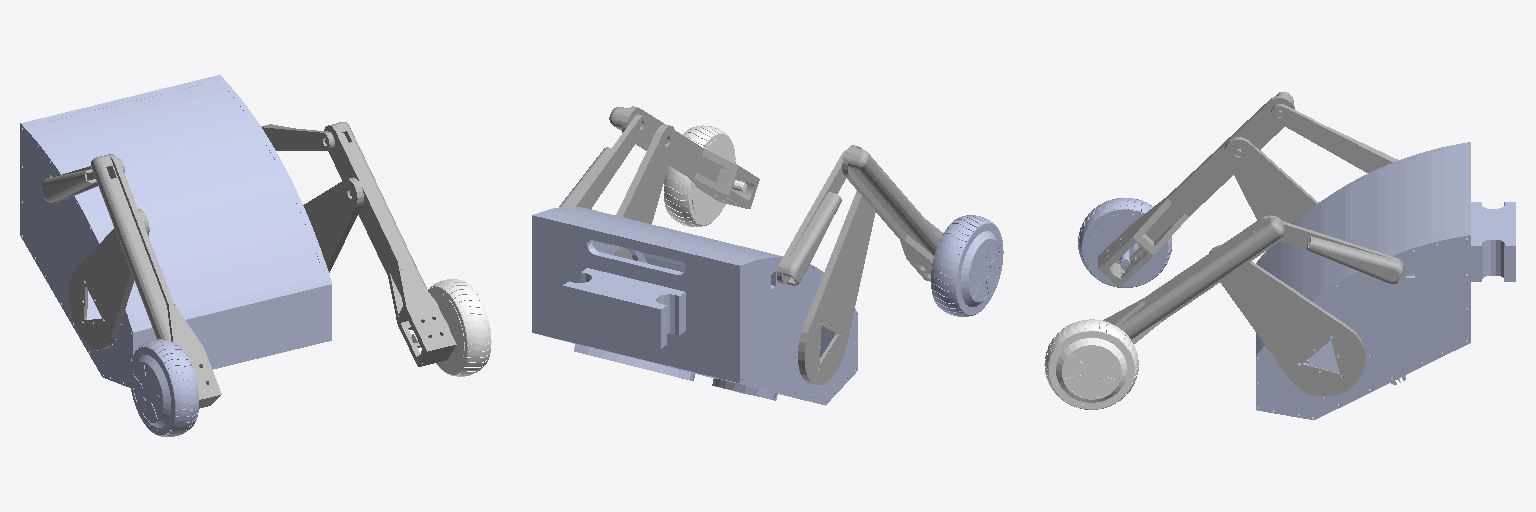
robot.urdf — sbr:
<?xml version="1.0" encoding="utf-8"?>
<!-- This URDF was automatically created by SolidWorks to URDF Exporter! Originally created by [author] ([email redacted]) 
     Commit Version: 1.6.0-4-g7f85cfe  Build Version: 1.6.7995.38578
     For more information, please see http://wiki.ros.org/sw_urdf_exporter -->
<robot
  name="sbr">
  <link
    name="base_link">
    <inertial>
      <origin
        xyz="-2.76555700180758E-05 0.227704467918155 0.0583610098036684"
        rpy="0 0 0" />
      <mass
        value="6.01926486550684" />
      <inertia
        ixx="0.056170551553721"
        ixy="6.07079296742871E-07"
        ixz="-1.55346959887611E-06"
        iyy="0.0639535245178406"
        iyz="-0.0195604065491136"
        izz="0.0795529085731348" />
    </inertial>
    <visual>
      <origin
        xyz="0 0 0"
        rpy="0 0 0" />
      <geometry>
        <mesh
          filename="package://sbr/meshes/base_link.STL" />
      </geometry>
      <material
        name="">
        <color
          rgba="0.792156862745098 0.819607843137255 0.933333333333333 1" />
      </material>
    </visual>
    <collision>
      <origin
        xyz="0 0 0"
        rpy="0 0 0" />
      <geometry>
        <mesh
          filename="package://sbr/meshes/base_link.STL" />
      </geometry>
    </collision>
  </link>
  <link
    name="cont_1">
    <inertial>
      <origin
        xyz="-0.0059438 -0.050574 -0.071771"
        rpy="0 0 0" />
      <mass
        value="0.33847" />
      <inertia
        ixx="0.0029734"
        ixy="-1.3483E-06"
        ixz="-1.9134E-06"
        iyy="0.0018709"
        iyz="-0.001064"
        izz="0.0011107" />
    </inertial>
    <visual>
      <origin
        xyz="0 0 0"
        rpy="0 0 0" />
      <geometry>
        <mesh
          filename="package://sbr/meshes/cont_1.STL" />
      </geometry>
      <material
        name="">
        <color
          rgba="0.74902 0.74902 0.74902 1" />
      </material>
    </visual>
    <collision>
      <origin
        xyz="0 0 0"
        rpy="0 0 0" />
      <geometry>
        <mesh
          filename="package://sbr/meshes/cont_1.STL" />
      </geometry>
    </collision>
  </link>
  <joint
    name="cont_1j"
    type="revolute">
    <origin
      xyz="-0.197 0.11544 0"
      rpy="3.1416 0 3.1416" />
    <parent
      link="base_link" />
    <child
      link="cont_1" />
    <axis
      xyz="1 0 0" />
    <limit
      lower="0"
      upper="0"
      effort="0"
      velocity="0" />
  </joint>
  <link
    name="Rleg_4">
    <inertial>
      <origin
        xyz="0.0195946903053816 -0.0850698143687041 0.0872274208634162"
        rpy="0 0 0" />
      <mass
        value="0.415086272244255" />
      <inertia
        ixx="0.00739303973811856"
        ixy="-0.000120155142096434"
        ixz="0.000126214228537311"
        iyy="0.00388856471860554"
        iyz="0.00359526421237412"
        izz="0.00366248839387767" />
    </inertial>
    <visual>
      <origin
        xyz="0 0 0"
        rpy="0 0 0" />
      <geometry>
        <mesh
          filename="package://sbr/meshes/Rleg_4.STL" />
      </geometry>
      <material
        name="">
        <color
          rgba="0.749019607843137 0.749019607843137 0.749019607843137 1" />
      </material>
    </visual>
    <collision>
      <origin
        xyz="0 0 0"
        rpy="0 0 0" />
      <geometry>
        <mesh
          filename="package://sbr/meshes/Rleg_4.STL" />
      </geometry>
    </collision>
  </link>
  <joint
    name="Rleg_4j"
    type="revolute">
    <origin
      xyz="-0.0119999999999999 -0.144003509130375 -0.204359950475016"
      rpy="0 0 0" />
    <parent
      link="cont_1" />
    <child
      link="Rleg_4" />
    <axis
      xyz="1 0 0" />
    <limit
      lower="0"
      upper="0"
      effort="0"
      velocity="0" />
  </joint>
  <link
    name="cran_2">
    <inertial>
      <origin
        xyz="-0.000682764334533015 -0.0734645807338099 -0.043738889902025"
        rpy="0 0 0" />
      <mass
        value="0.12243957571292" />
      <inertia
        ixx="0.000530172498653941"
        ixy="-7.34139310083131E-06"
        ixz="-4.2720303242008E-06"
        iyy="0.000155833844911724"
        iyz="-0.000220671382760022"
        izz="0.000395660393177888" />
    </inertial>
    <visual>
      <origin
        xyz="0 0 0"
        rpy="0 0 0" />
      <geometry>
        <mesh
          filename="package://sbr/meshes/cran_2.STL" />
      </geometry>
      <material
        name="">
        <color
          rgba="0.749019607843137 0.749019607843137 0.749019607843137 1" />
      </material>
    </visual>
    <collision>
      <origin
        xyz="0 0 0"
        rpy="0 0 0" />
      <geometry>
        <mesh
          filename="package://sbr/meshes/cran_2.STL" />
      </geometry>
    </collision>
  </link>
  <joint
    name="cran_2j"
    type="revolute">
    <origin
      xyz="-0.195 0.229790683682288 0.164085587903017"
      rpy="3.14159265358979 0 3.14159265358979" />
    <parent
      link="base_link" />
    <child
      link="cran_2" />
    <axis
      xyz="1 0 0" />
    <limit
      lower="0"
      upper="0"
      effort="0"
      velocity="0" />
  </joint>
  <link
    name="Rleg_3">
    <inertial>
      <origin
        xyz="0.0195946903053818 -0.154319093338658 0.159369900509516"
        rpy="0 0 0" />
      <mass
        value="0.415086272244255" />
      <inertia
        ixx="0.00739303973811856"
        ixy="-0.000120155142096434"
        ixz="0.000126214228537311"
        iyy="0.00388856471860554"
        iyz="0.00359526421237412"
        izz="0.00366248839387767" />
    </inertial>
    <visual>
      <origin
        xyz="0 0 0"
        rpy="0 0 0" />
      <geometry>
        <mesh
          filename="package://sbr/meshes/Rleg_3.STL" />
      </geometry>
      <material
        name="">
        <color
          rgba="0.749019607843137 0.749019607843137 0.749019607843137 1" />
      </material>
    </visual>
    <collision>
      <origin
        xyz="0 0 0"
        rpy="0 0 0" />
      <geometry>
        <mesh
          filename="package://sbr/meshes/Rleg_3.STL" />
      </geometry>
    </collision>
  </link>
  <joint
    name="Rleg_3j"
    type="revolute">
    <origin
      xyz="-0.01 -0.189108047489418 -0.112419510649797"
      rpy="0 0 0" />
    <parent
      link="cran_2" />
    <child
      link="Rleg_3" />
    <axis
      xyz="1 0 0" />
    <limit
      lower="0"
      upper="0"
      effort="0"
      velocity="0" />
  </joint>
  <link
    name="cont_6">
    <inertial>
      <origin
        xyz="-0.00594378099244974 -0.0601675364389161 0.0638280358809282"
        rpy="0 0 0" />
      <mass
        value="0.3384745517817" />
      <inertia
        ixx="0.00297344569042236"
        ixy="-1.60342960470081E-06"
        ixz="1.70534778750191E-06"
        iyy="0.00156038050771122"
        iyz="0.00112769547111833"
        izz="0.00142130578663051" />
    </inertial>
    <visual>
      <origin
        xyz="0 0 0"
        rpy="0 0 0" />
      <geometry>
        <mesh
          filename="package://sbr/meshes/cont_6.STL" />
      </geometry>
      <material
        name="">
        <color
          rgba="0.749019607843137 0.749019607843137 0.749019607843137 1" />
      </material>
    </visual>
    <collision>
      <origin
        xyz="0 0 0"
        rpy="0 0 0" />
      <geometry>
        <mesh
          filename="package://sbr/meshes/cont_6.STL" />
      </geometry>
    </collision>
  </link>
  <joint
    name="cont_6j"
    type="revolute">
    <origin
      xyz="0.197 0.115436866353291 0"
      rpy="0 0 0" />
    <parent
      link="base_link" />
    <child
      link="cont_6" />
    <axis
      xyz="1 0 0" />
    <limit
      lower="0"
      upper="0"
      effort="0"
      velocity="0" />
  </joint>
  <link
    name="Lleg_9">
    <inertial>
      <origin
        xyz="0.0195947514615937 -0.097983638734368 -0.0724203250605406"
        rpy="0 0 0" />
      <mass
        value="0.415086883864536" />
      <inertia
        ixx="0.0073930389839479"
        ixy="-0.000138876107863853"
        ixz="-0.000105268818343775"
        iyy="0.0027420874104242"
        iyz="-0.00344538866570124"
        izz="0.00480896649112852" />
    </inertial>
    <visual>
      <origin
        xyz="0 0 0"
        rpy="0 0 0" />
      <geometry>
        <mesh
          filename="package://sbr/meshes/Lleg_9.STL" />
      </geometry>
      <material
        name="">
        <color
          rgba="0.749019607843137 0.749019607843137 0.749019607843137 1" />
      </material>
    </visual>
    <collision>
      <origin
        xyz="0 0 0"
        rpy="0 0 0" />
      <geometry>
        <mesh
          filename="package://sbr/meshes/Lleg_9.STL" />
      </geometry>
    </collision>
  </link>
  <joint
    name="Lleg_9j"
    type="revolute">
    <origin
      xyz="-0.01 -0.171274550513312 0.18199730260285"
      rpy="0 0 0" />
    <parent
      link="cont_6" />
    <child
      link="Lleg_9" />
    <axis
      xyz="-1 0 0" />
    <limit
      lower="0"
      upper="0"
      effort="0"
      velocity="0" />
  </joint>
  <link
    name="cran_7">
    <inertial>
      <origin
        xyz="0.0493172483668554 -0.0799465841130305 0.0303096858562807"
        rpy="0 0 0" />
      <mass
        value="0.122439645946318" />
      <inertia
        ixx="0.000530172609465354"
        ixy="-7.91179021459104E-06"
        ixz="3.0903454756215E-06"
        iyy="8.78881626797365E-05"
        iyz="0.000166685556193853"
        izz="0.000463606241471678" />
    </inertial>
    <visual>
      <origin
        xyz="0 0 0"
        rpy="0 0 0" />
      <geometry>
        <mesh
          filename="package://sbr/meshes/cran_7.STL" />
      </geometry>
      <material
        name="">
        <color
          rgba="0.749019607843137 0.749019607843137 0.749019607843137 1" />
      </material>
    </visual>
    <collision>
      <origin
        xyz="0 0 0"
        rpy="0 0 0" />
      <geometry>
        <mesh
          filename="package://sbr/meshes/cran_7.STL" />
      </geometry>
    </collision>
  </link>
  <joint
    name="cran_7j"
    type="revolute">
    <origin
      xyz="0.145 0.229766466738778 0.163947437470892"
      rpy="0 0 0" />
    <parent
      link="base_link" />
    <child
      link="cran_7" />
    <axis
      xyz="1 0 0" />
    <limit
      lower="0"
      upper="0"
      effort="0"
      velocity="0" />
  </joint>
  <link
    name="Lleg_8">
    <inertial>
      <origin
        xyz="0.0195947514615937 -0.177927551136723 -0.132495035794797"
        rpy="0 0 0" />
      <mass
        value="0.415086883864536" />
      <inertia
        ixx="0.0073930389839479"
        ixy="-0.000138876107863853"
        ixz="-0.000105268818343775"
        iyy="0.0027420874104242"
        iyz="-0.00344538866570124"
        izz="0.00480896649112852" />
    </inertial>
    <visual>
      <origin
        xyz="0 0 0"
        rpy="0 0 0" />
      <geometry>
        <mesh
          filename="package://sbr/meshes/Lleg_8.STL" />
      </geometry>
      <material
        name="">
        <color
          rgba="0.749019607843137 0.749019607843137 0.749019607843137 1" />
      </material>
    </visual>
    <collision>
      <origin
        xyz="0 0 0"
        rpy="0 0 0" />
      <geometry>
        <mesh
          filename="package://sbr/meshes/Lleg_8.STL" />
      </geometry>
    </collision>
  </link>
  <joint
    name="Lleg_8j"
    type="revolute">
    <origin
      xyz="0.042 -0.205660238496444 0.0781272442979122"
      rpy="0 0 0" />
    <parent
      link="cran_7" />
    <child
      link="Lleg_8" />
    <axis
      xyz="-1 0 0" />
    <limit
      lower="0"
      upper="0"
      effort="0"
      velocity="0" />
  </joint>
  <link
    name="left_wheel">
    <inertial>
      <origin
        xyz="0.0808553858050179 1.64699758713471E-05 -1.44911854014218E-05"
        rpy="0 0 0" />
      <mass
        value="0.958008204798537" />
      <inertia
        ixx="0.00270268771937038"
        ixy="4.68694410174272E-07"
        ixz="-3.47872768401154E-07"
        iyy="0.00158536502830886"
        iyz="-1.5648494833664E-08"
        izz="0.00158534911261536" />
    </inertial>
    <visual>
      <origin
        xyz="0 0 0"
        rpy="0 0 0" />
      <geometry>
        <mesh
          filename="package://sbr/meshes/left_wheel.STL" />
      </geometry>
      <material
        name="">
        <color
          rgba="0.792156862745098 0.819607843137255 0.933333333333333 1" />
      </material>
    </visual>
    <collision>
      <origin
        xyz="0 0 0"
        rpy="0 0 0" />
      <geometry>
        <mesh
          filename="package://sbr/meshes/left_wheel.STL" />
      </geometry>
    </collision>
  </link>
  <joint
    name="left_wheel_j"
    type="continuous">
    <origin
      xyz="-0.17363 -0.21975 0.0060512"
      rpy="3.1416 0 3.1416" />
    <parent
      link="base_link" />
    <child
      link="left_wheel" />
    <axis
      xyz="1 0.00013999 -0.00011825" />
  </joint>
  <link
    name="right_wheel">
    <inertial>
      <origin
        xyz="0 0 0"
        rpy="0 0 0" />
      <mass
        value="0" />
      <inertia
        ixx="0"
        ixy="0"
        ixz="0"
        iyy="0"
        iyz="0"
        izz="0" />
    </inertial>
    <visual>
      <origin
        xyz="0 0 0"
        rpy="0 0 0" />
      <geometry>
        <mesh
          filename="package://sbr/meshes/right_wheel.STL" />
      </geometry>
      <material
        name="">
        <color
          rgba="1 1 1 1" />
      </material>
    </visual>
    <collision>
      <origin
        xyz="0 0 0"
        rpy="0 0 0" />
      <geometry>
        <mesh
          filename="package://sbr/meshes/right_wheel.STL" />
      </geometry>
    </collision>
  </link>
  <joint
    name="right_wheel_j"
    type="continuous">
    <origin
      xyz="0.175878995127272 -0.276735707333555 0.016744904728899"
      rpy="3.14159265358979 0 3.14159265358979" />
    <parent
      link="base_link" />
    <child
      link="right_wheel" />
    <axis
      xyz="1 0 0" />
  </joint>
</robot>

--- What the picture shows (computed from the rendered views, not written in the file) ---
3 views of the same robot in one strip: view 1: azimuth 30°, elevation 25°; view 2: azimuth 150°, elevation 25°; view 3: azimuth 270°, elevation 25° (orthographic).
Robot: sbr — 11 links, 10 joints (8 revolute, 2 continuous); root link base_link; default pose: all joints at 0.
Visible links, largest first — view 1: base_link, Rleg_3, Lleg_8, left_wheel, cont_1, right_wheel, cont_6, cran_7, Lleg_9, cran_2; view 2: base_link, cont_1, left_wheel, right_wheel, cran_2, cont_6, Rleg_4, cran_7, Lleg_8, Lleg_9, Rleg_3; view 3: base_link, cont_6, right_wheel, Rleg_4, cont_1, Lleg_8, left_wheel, cran_7, cran_2, Lleg_9, Rleg_3.
Link boxes in pixels (left/top/right/bottom): base_link: left=20, top=75, right=331, bottom=387; Rleg_3: left=91, top=154, right=221, bottom=408; Lleg_8: left=324, top=122, right=456, bottom=366; left_wheel: left=130, top=339, right=198, bottom=436; cont_1: left=69, top=209, right=149, bottom=349; right_wheel: left=411, top=279, right=491, bottom=376; cont_6: left=303, top=177, right=363, bottom=272; cran_7: left=261, top=124, right=334, bottom=150; Lleg_9: left=325, top=125, right=455, bottom=366; cran_2: left=41, top=158, right=124, bottom=202; base_link: left=532, top=207, right=857, bottom=405; cont_1: left=798, top=191, right=875, bottom=384; left_wheel: left=931, top=215, right=1003, bottom=316; right_wheel: left=664, top=125, right=746, bottom=226; cran_2: left=777, top=150, right=846, bottom=285; cont_6: left=613, top=124, right=675, bottom=259; Rleg_4: left=842, top=152, right=934, bottom=281; cran_7: left=559, top=114, right=646, bottom=208; Lleg_8: left=609, top=106, right=759, bottom=207; Lleg_9: left=609, top=109, right=758, bottom=208; Rleg_3: left=846, top=145, right=942, bottom=276; base_link: left=1256, top=142, right=1515, bottom=419; cont_6: left=1209, top=245, right=1365, bottom=395; right_wheel: left=1044, top=319, right=1138, bottom=409; Rleg_4: left=1099, top=93, right=1294, bottom=287; cont_1: left=1224, top=137, right=1318, bottom=223; Lleg_8: left=1103, top=215, right=1284, bottom=343; left_wheel: left=1078, top=198, right=1171, bottom=287; cran_7: left=1281, top=221, right=1403, bottom=283; cran_2: left=1271, top=104, right=1398, bottom=172; Lleg_9: left=1127, top=218, right=1284, bottom=339; Rleg_3: left=1098, top=92, right=1287, bottom=277.
Bounding box of the posed robot: 0.5721 × 0.7917 × 0.4205 m (x, y, z).
11 mesh visuals loaded from 11 distinct referenced files (11 binary STL).
